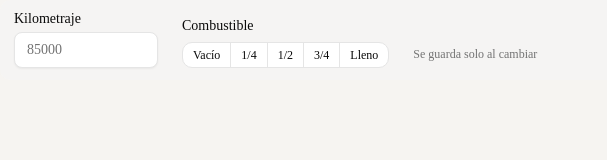
Scenario: RecepcionForm › muestra el error de la action
Click the radio button labelled "Lleno" at (364, 55), box 340,43 -> 388,67
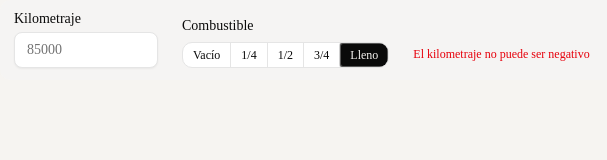
Expected: the message reads "El kilometraje no puede ser negativo", 413,47 -> 590,61
